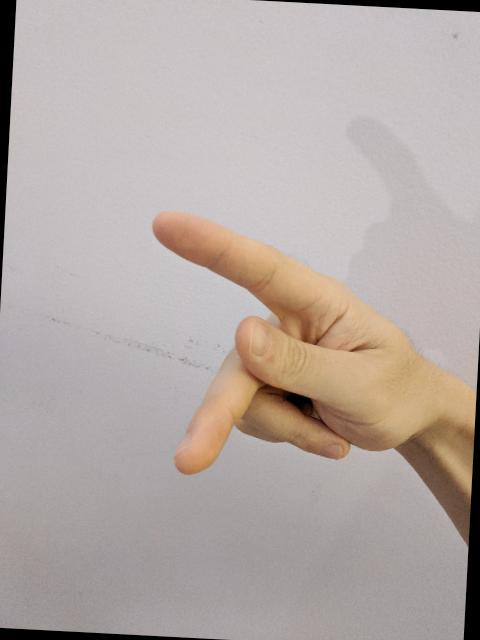P: (134, 206, 450, 492)
